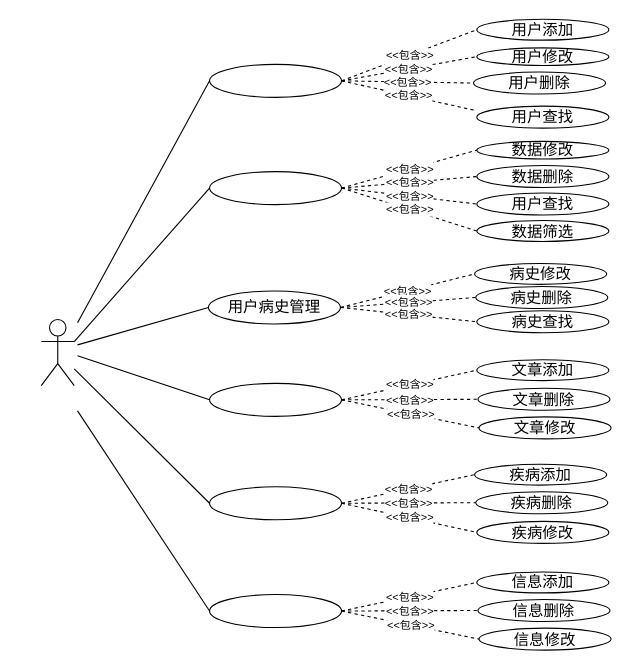
Some shapes in this 630 by 670 pixel diagram are drawn without their labels. Each missing label, with the box of its shape:
健康教育: (208, 593, 342, 628)
普通管理员: (40, 318, 74, 386)
用户信息管理: (208, 63, 342, 97)
用户数据管理: (208, 170, 342, 205)
疾病类型管理: (208, 486, 342, 520)
科普文章管理: (208, 382, 342, 416)
